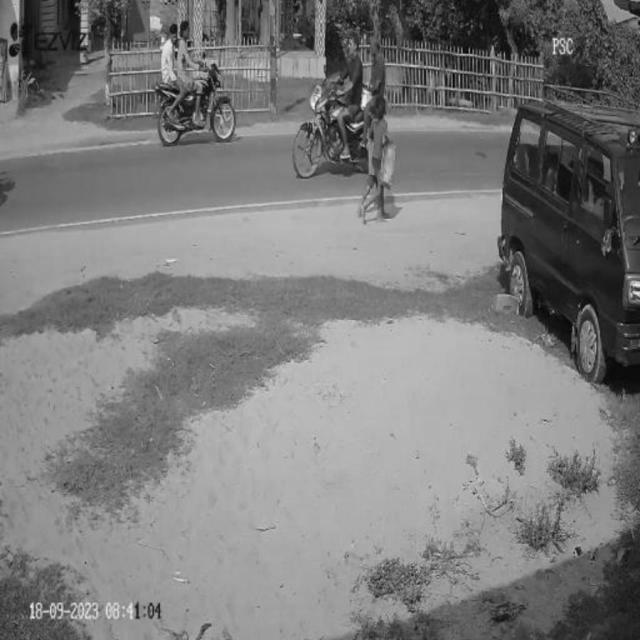person: (362, 97, 390, 229)
vehicle: (494, 100, 640, 384), (295, 44, 396, 185), (154, 11, 238, 143)
